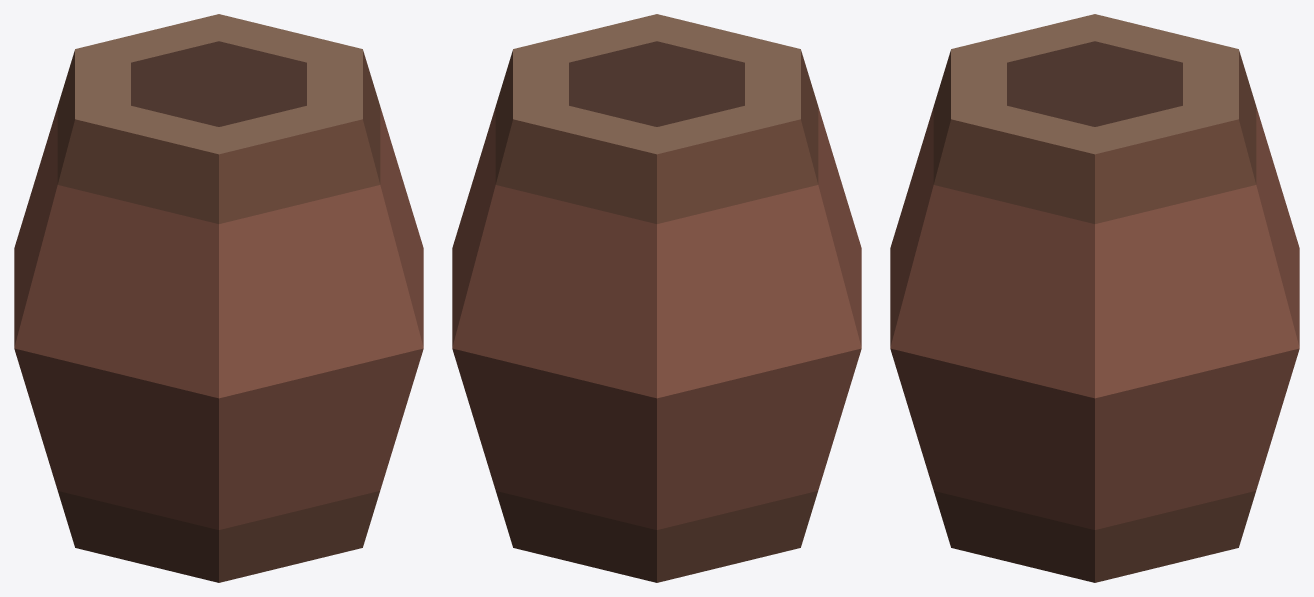
File: TB_Env_Crate.FBX
The picture shows the model from 3 angles, left to right: view 1: azimuth 30°, elevation 25°; view 2: azimuth 150°, elevation 25°; view 3: azimuth 270°, elevation 25°; orthographic projection.
Visible parts, largest first — view 1: TB_Env_Crate; view 2: TB_Env_Crate; view 3: TB_Env_Crate.
Boxes of the visible parts, <box> form: TB_Env_Crate: <box>14,14,423,582</box>; TB_Env_Crate: <box>452,14,861,582</box>; TB_Env_Crate: <box>890,14,1299,582</box>.
Size of the model in its own units: 1 by 1 by 0.866.
